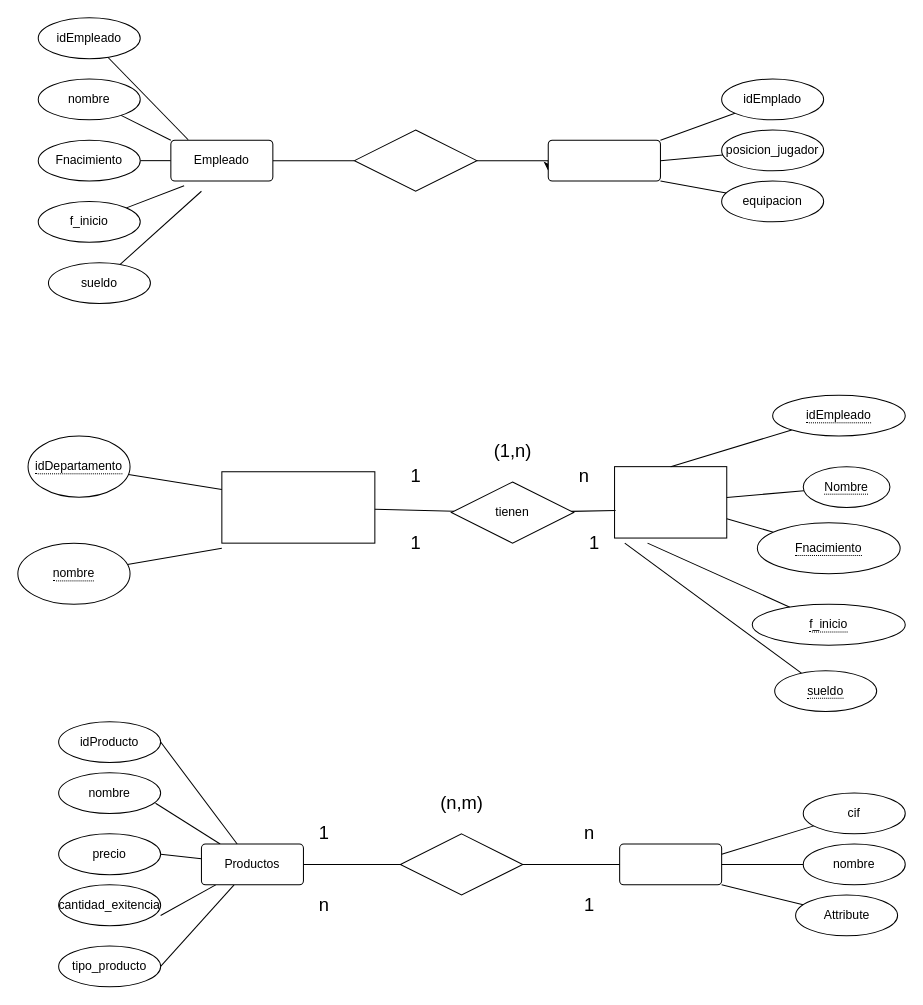
The diagram is 923 pixels wide and 1005 high, and some of its shapes have lost their labels. The centre of each missing label's shape, as x and y in pixels:
comprar: the point at 461,864
Departamentos: the point at 298,507
Empleados: the point at 670,502
Empleados_equipo: the point at 603,160
Proveedores: the point at 670,864
son: the point at 415,160
